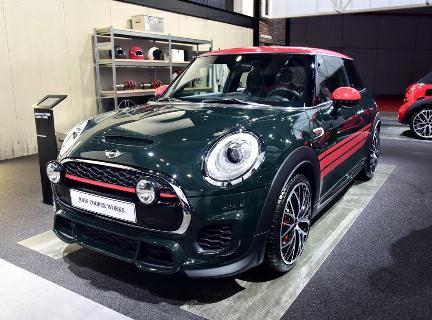MINI-JCW: (39, 40, 381, 287)
